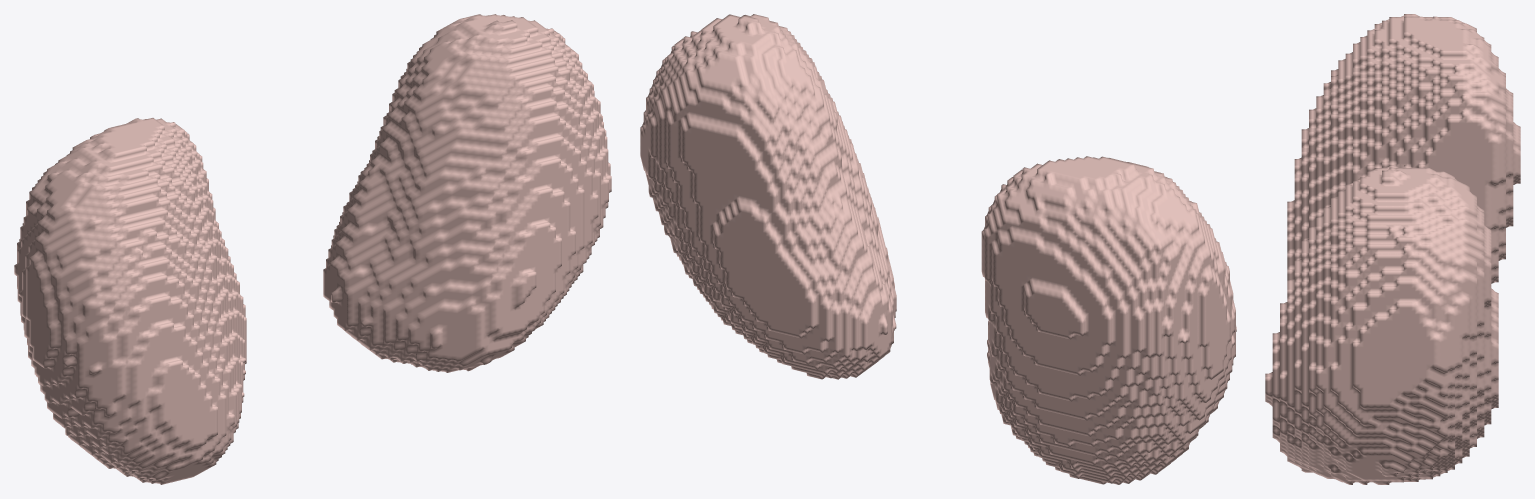
Rendered from region-19.glb.
The picture shows the model from 3 angles, left to right: view 1: azimuth 30°, elevation 25°; view 2: azimuth 150°, elevation 25°; view 3: azimuth 270°, elevation 25°; orthographic projection. The views are drawn at different scales.
Visible parts, largest first — view 1: digimouse-volume:19; view 2: digimouse-volume:19; view 3: digimouse-volume:19.
Boxes of the visible parts, bbox=[...] form: digimouse-volume:19: bbox=[14, 14, 611, 484]; digimouse-volume:19: bbox=[640, 14, 1236, 484]; digimouse-volume:19: bbox=[1265, 14, 1520, 484].
Size of the model in its own units: 0.0188 by 0.0118 by 0.007.
